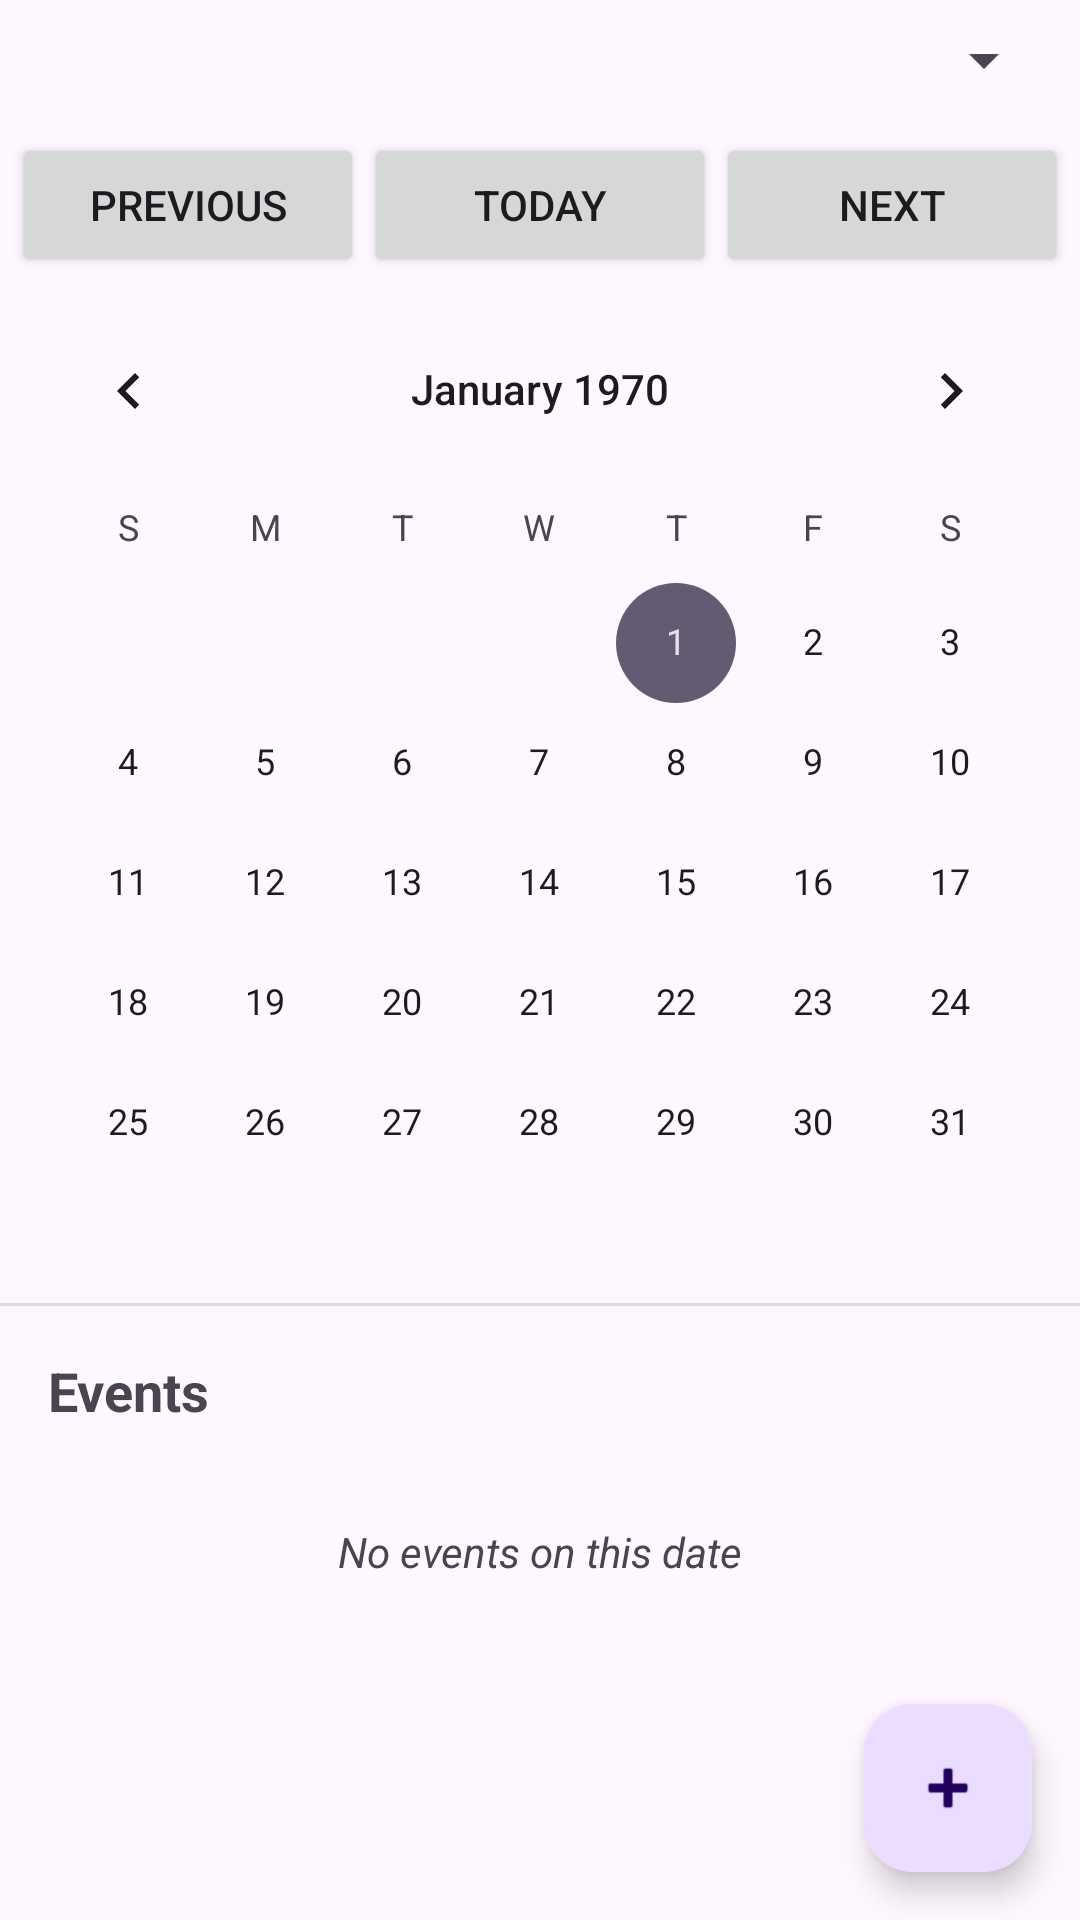

Locate icon controls on the screen. Image size 1080px×1920px, boxes as (x1, y1, x2, y2).
Add event: (864, 1704, 1032, 1872)
